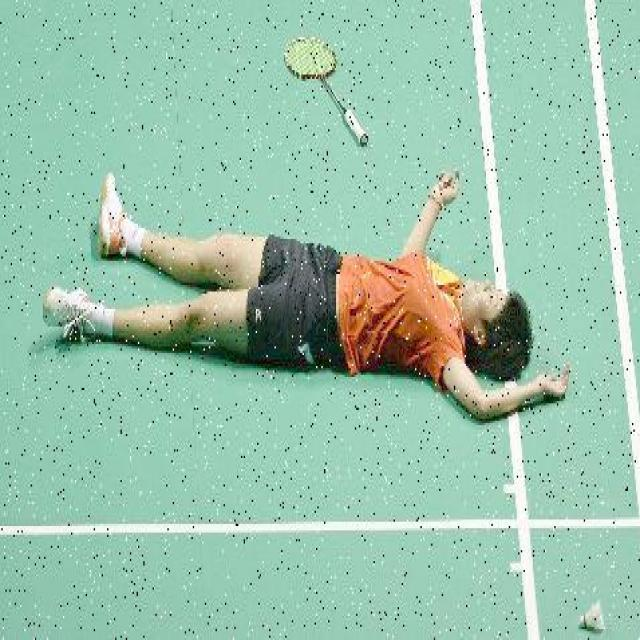fall: (46, 171, 572, 419)
